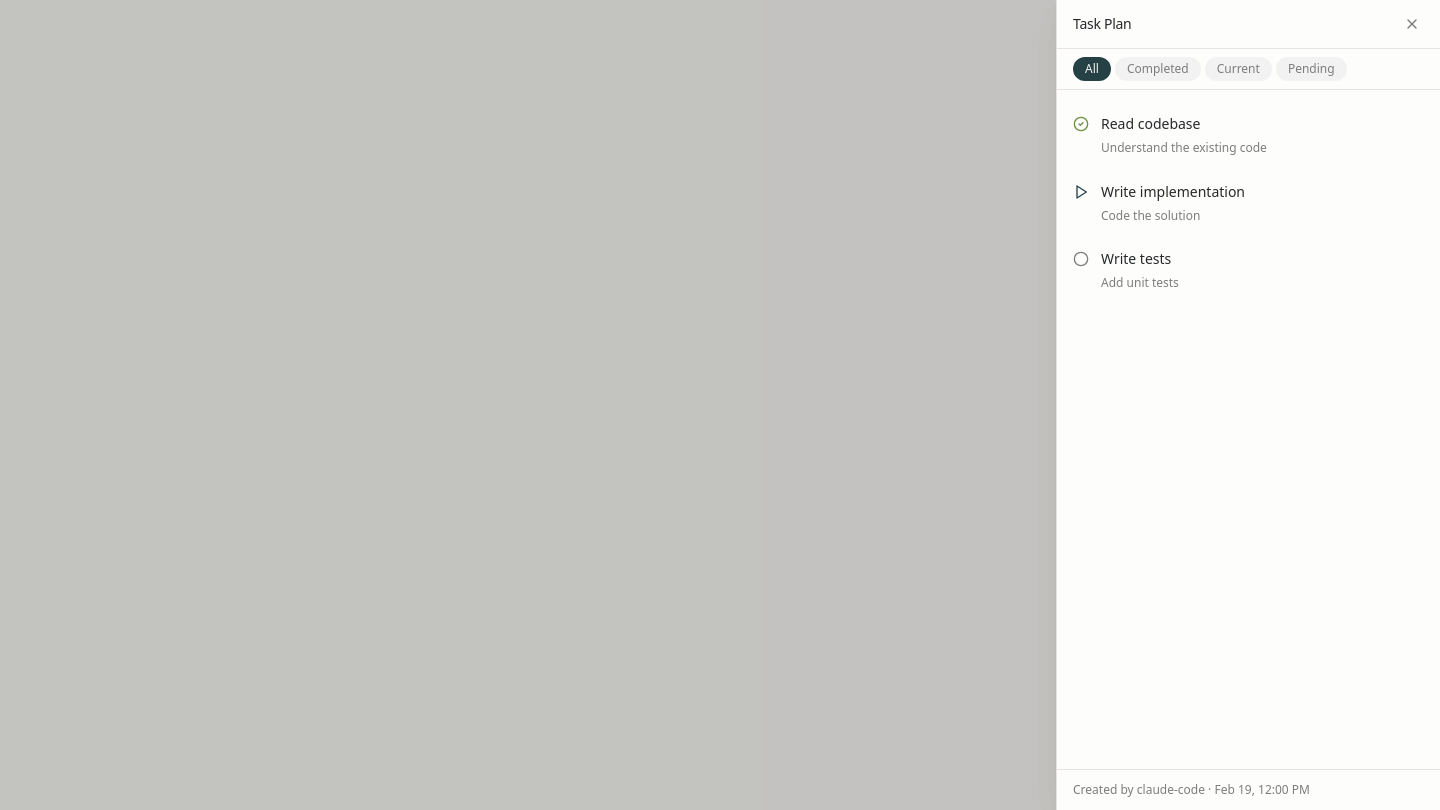
Test case: TasksSidebar › filter buttons work (All, Completed, Current, Pending)
expect the text "Read codebase" is shown: met, box [1101, 114, 1200, 133]
expect the text "Write implementation" is shown: met, box [1101, 182, 1245, 202]
Click "Completed" filter
Click the button "Completed".
click(1158, 69)  # box [1115, 57, 1201, 81]
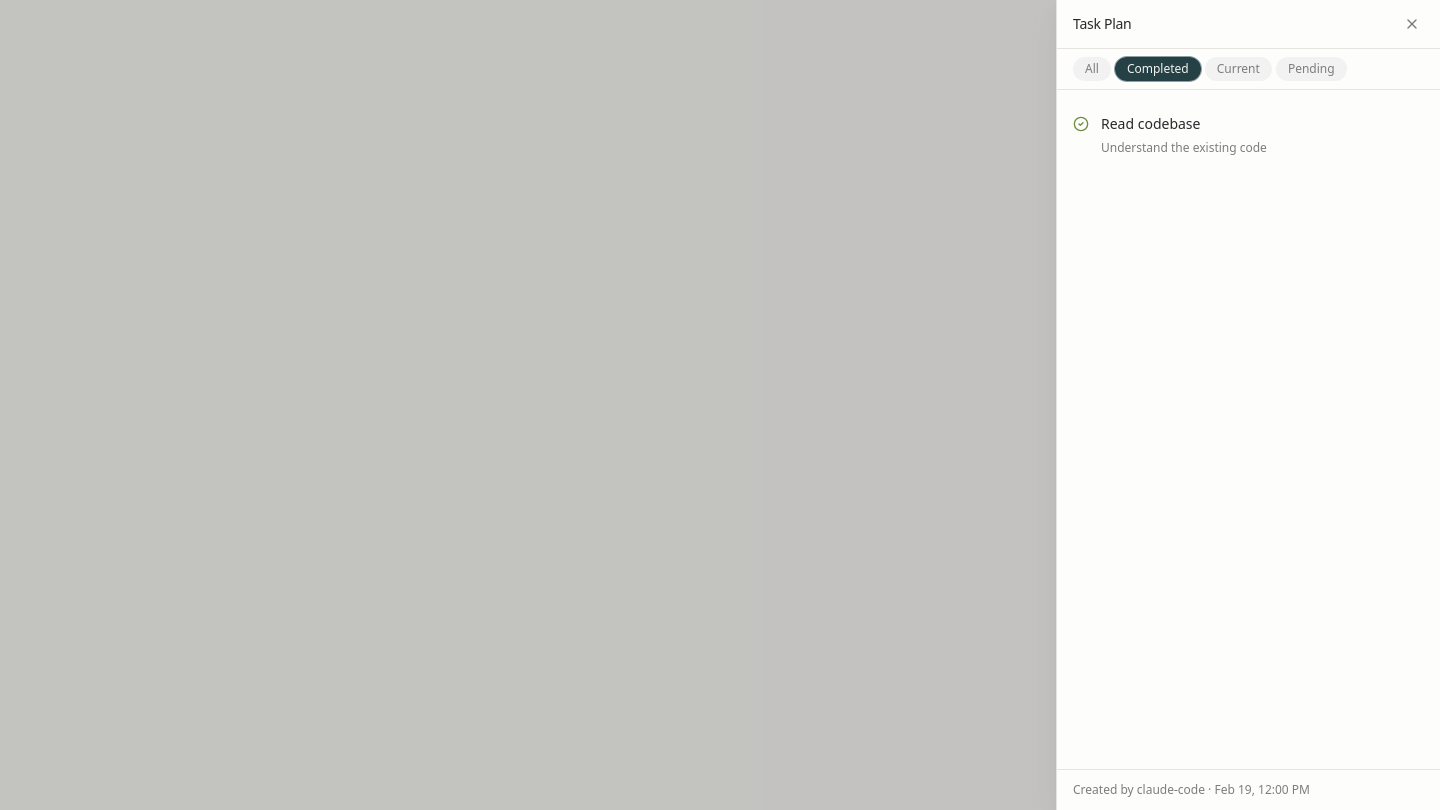
expect the text "Read codebase" is shown: met, box [1101, 114, 1200, 133]
expect the text "Write implementation" is gone: met
expect the text "Write tests" is gone: met
Click "Current" filter
Click the button "Current".
click(1238, 69)  # box [1205, 57, 1272, 81]
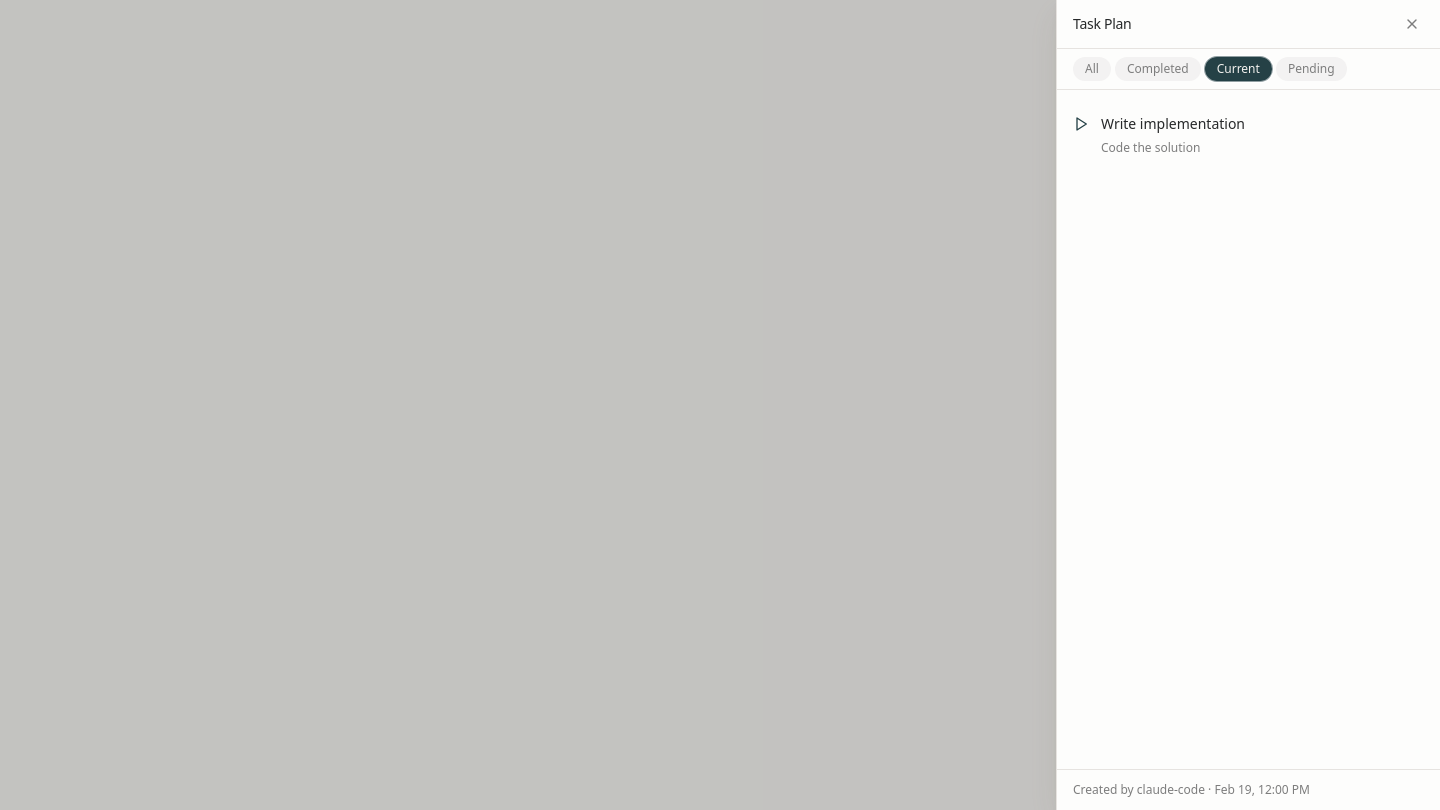
expect the text "Write tests" is not shown: met
expect the text "Read codebase" is gone: met
expect the text "Write implementation" is shown: met, box [1101, 114, 1245, 134]
Click "Pending" filter
Click the button "Pending".
click(1311, 69)  # box [1276, 57, 1347, 81]
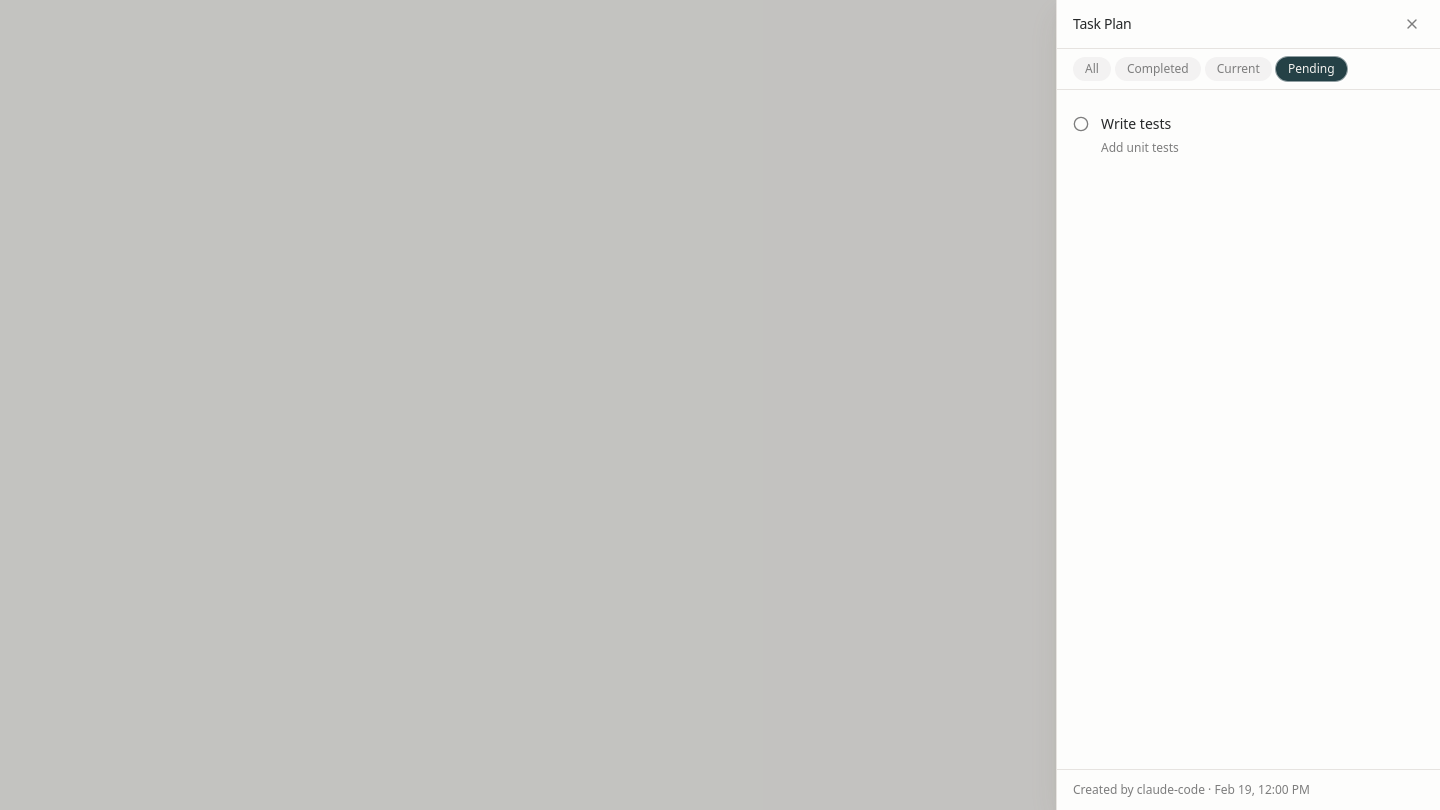
expect the text "Read codebase" is not shown: met
expect the text "Write implementation" is gone: met
expect the text "Write tests" is shown: met, box [1101, 114, 1179, 134]
Click "All" to restore
Click the button "All".
click(1092, 69)  # box [1073, 57, 1111, 81]
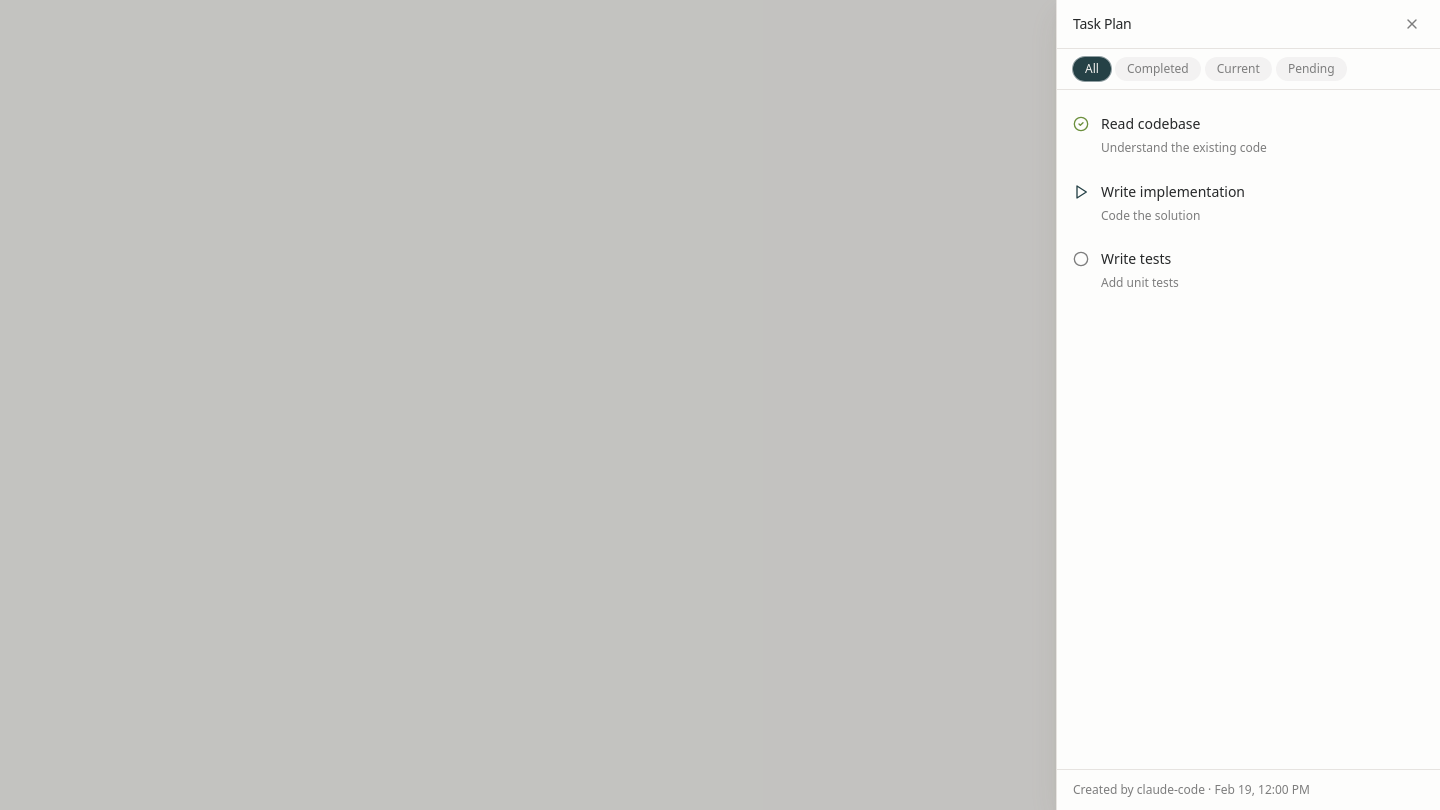
expect the text "Write tests" is shown: met, box [1101, 249, 1179, 269]
expect the text "Read codebase" is shown: met, box [1101, 114, 1200, 133]
expect the text "Write implementation" is shown: met, box [1101, 182, 1245, 202]
